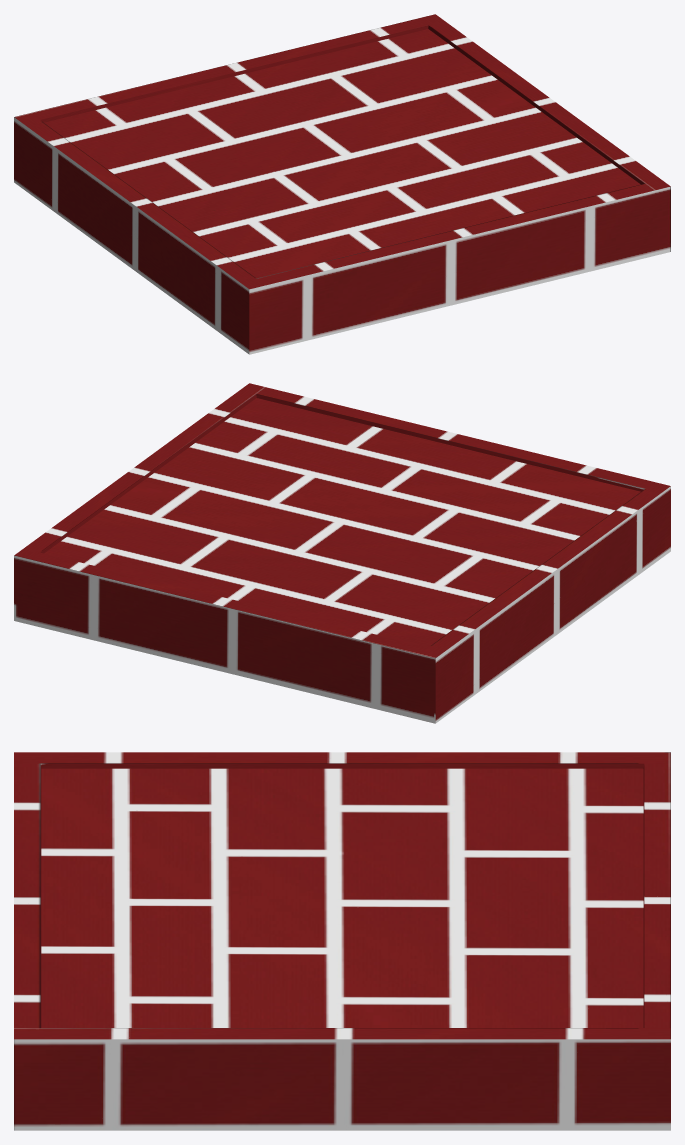
The model's file is red_platform.fbx.
3 views of the same model, one above another, from view 1: azimuth 30°, elevation 25°; view 2: azimuth 150°, elevation 25°; view 3: azimuth 270°, elevation 25° (orthographic). The views are drawn at different scales.
Parts seen in each view (by area): view 1: red_platform; view 2: red_platform; view 3: red_platform.
Part boxes in pixels (x1,y1,x2,y2): red_platform: (14, 14, 670, 354); red_platform: (14, 383, 670, 723); red_platform: (14, 752, 670, 1130).
Size of the model in its own units: 128 by 18.93 by 124.
1 material, 1 textured.
